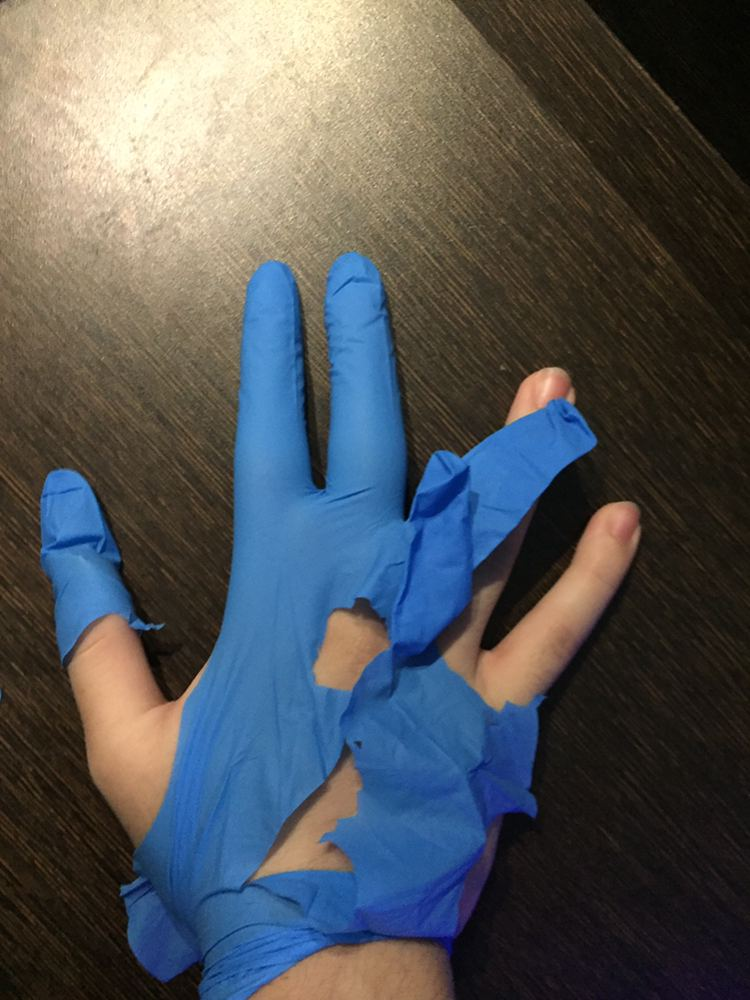defected: (20, 168, 673, 965)
